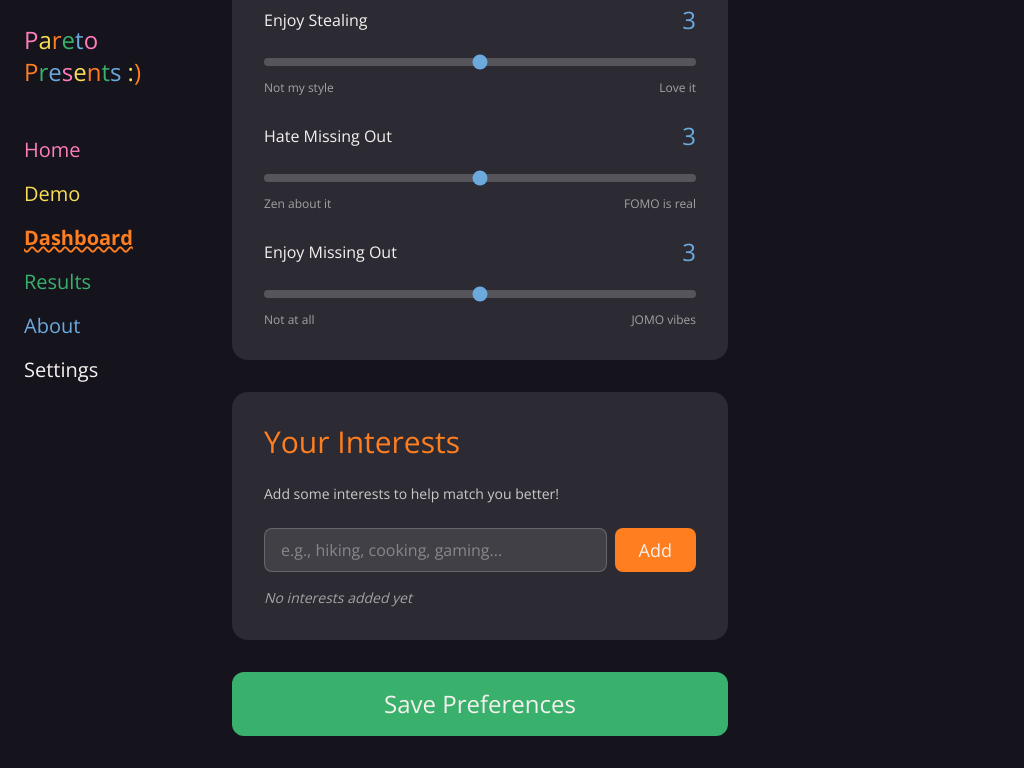
Test: DashboardPage › Preference form interactions › trims whitespace from interests
(page scrolled)
expect the heading "Your Interests" is shown: met, box [264, 421, 460, 462]
Type "  hiking  " into the field with placeholder "e.g., hiking, cooking, gaming..." at (435, 550), box [264, 528, 607, 572]
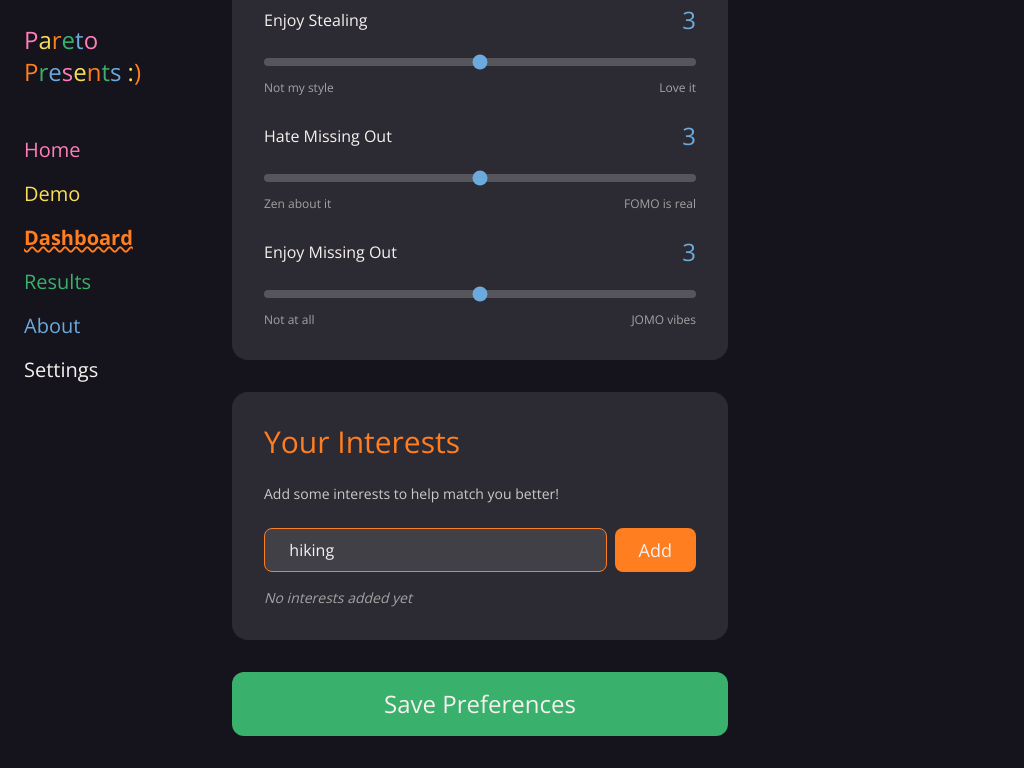
Click the button "Add" at (655, 550), box [615, 528, 696, 572]
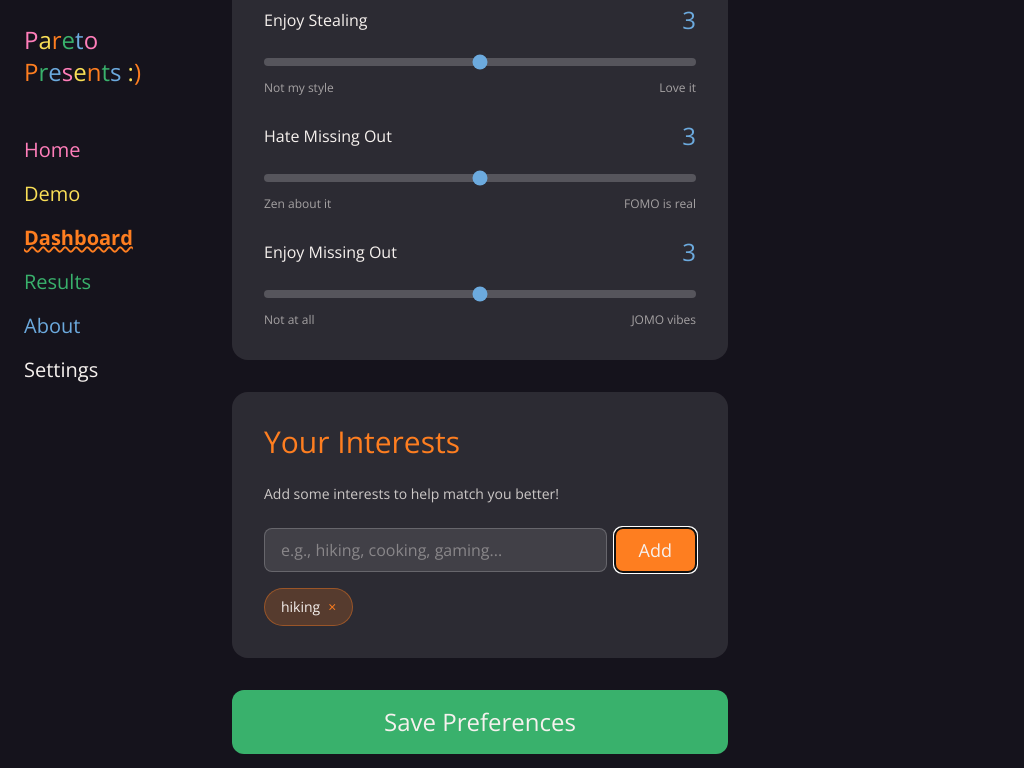
expect the text "hiking" is shown: met, box [281, 597, 320, 616]
